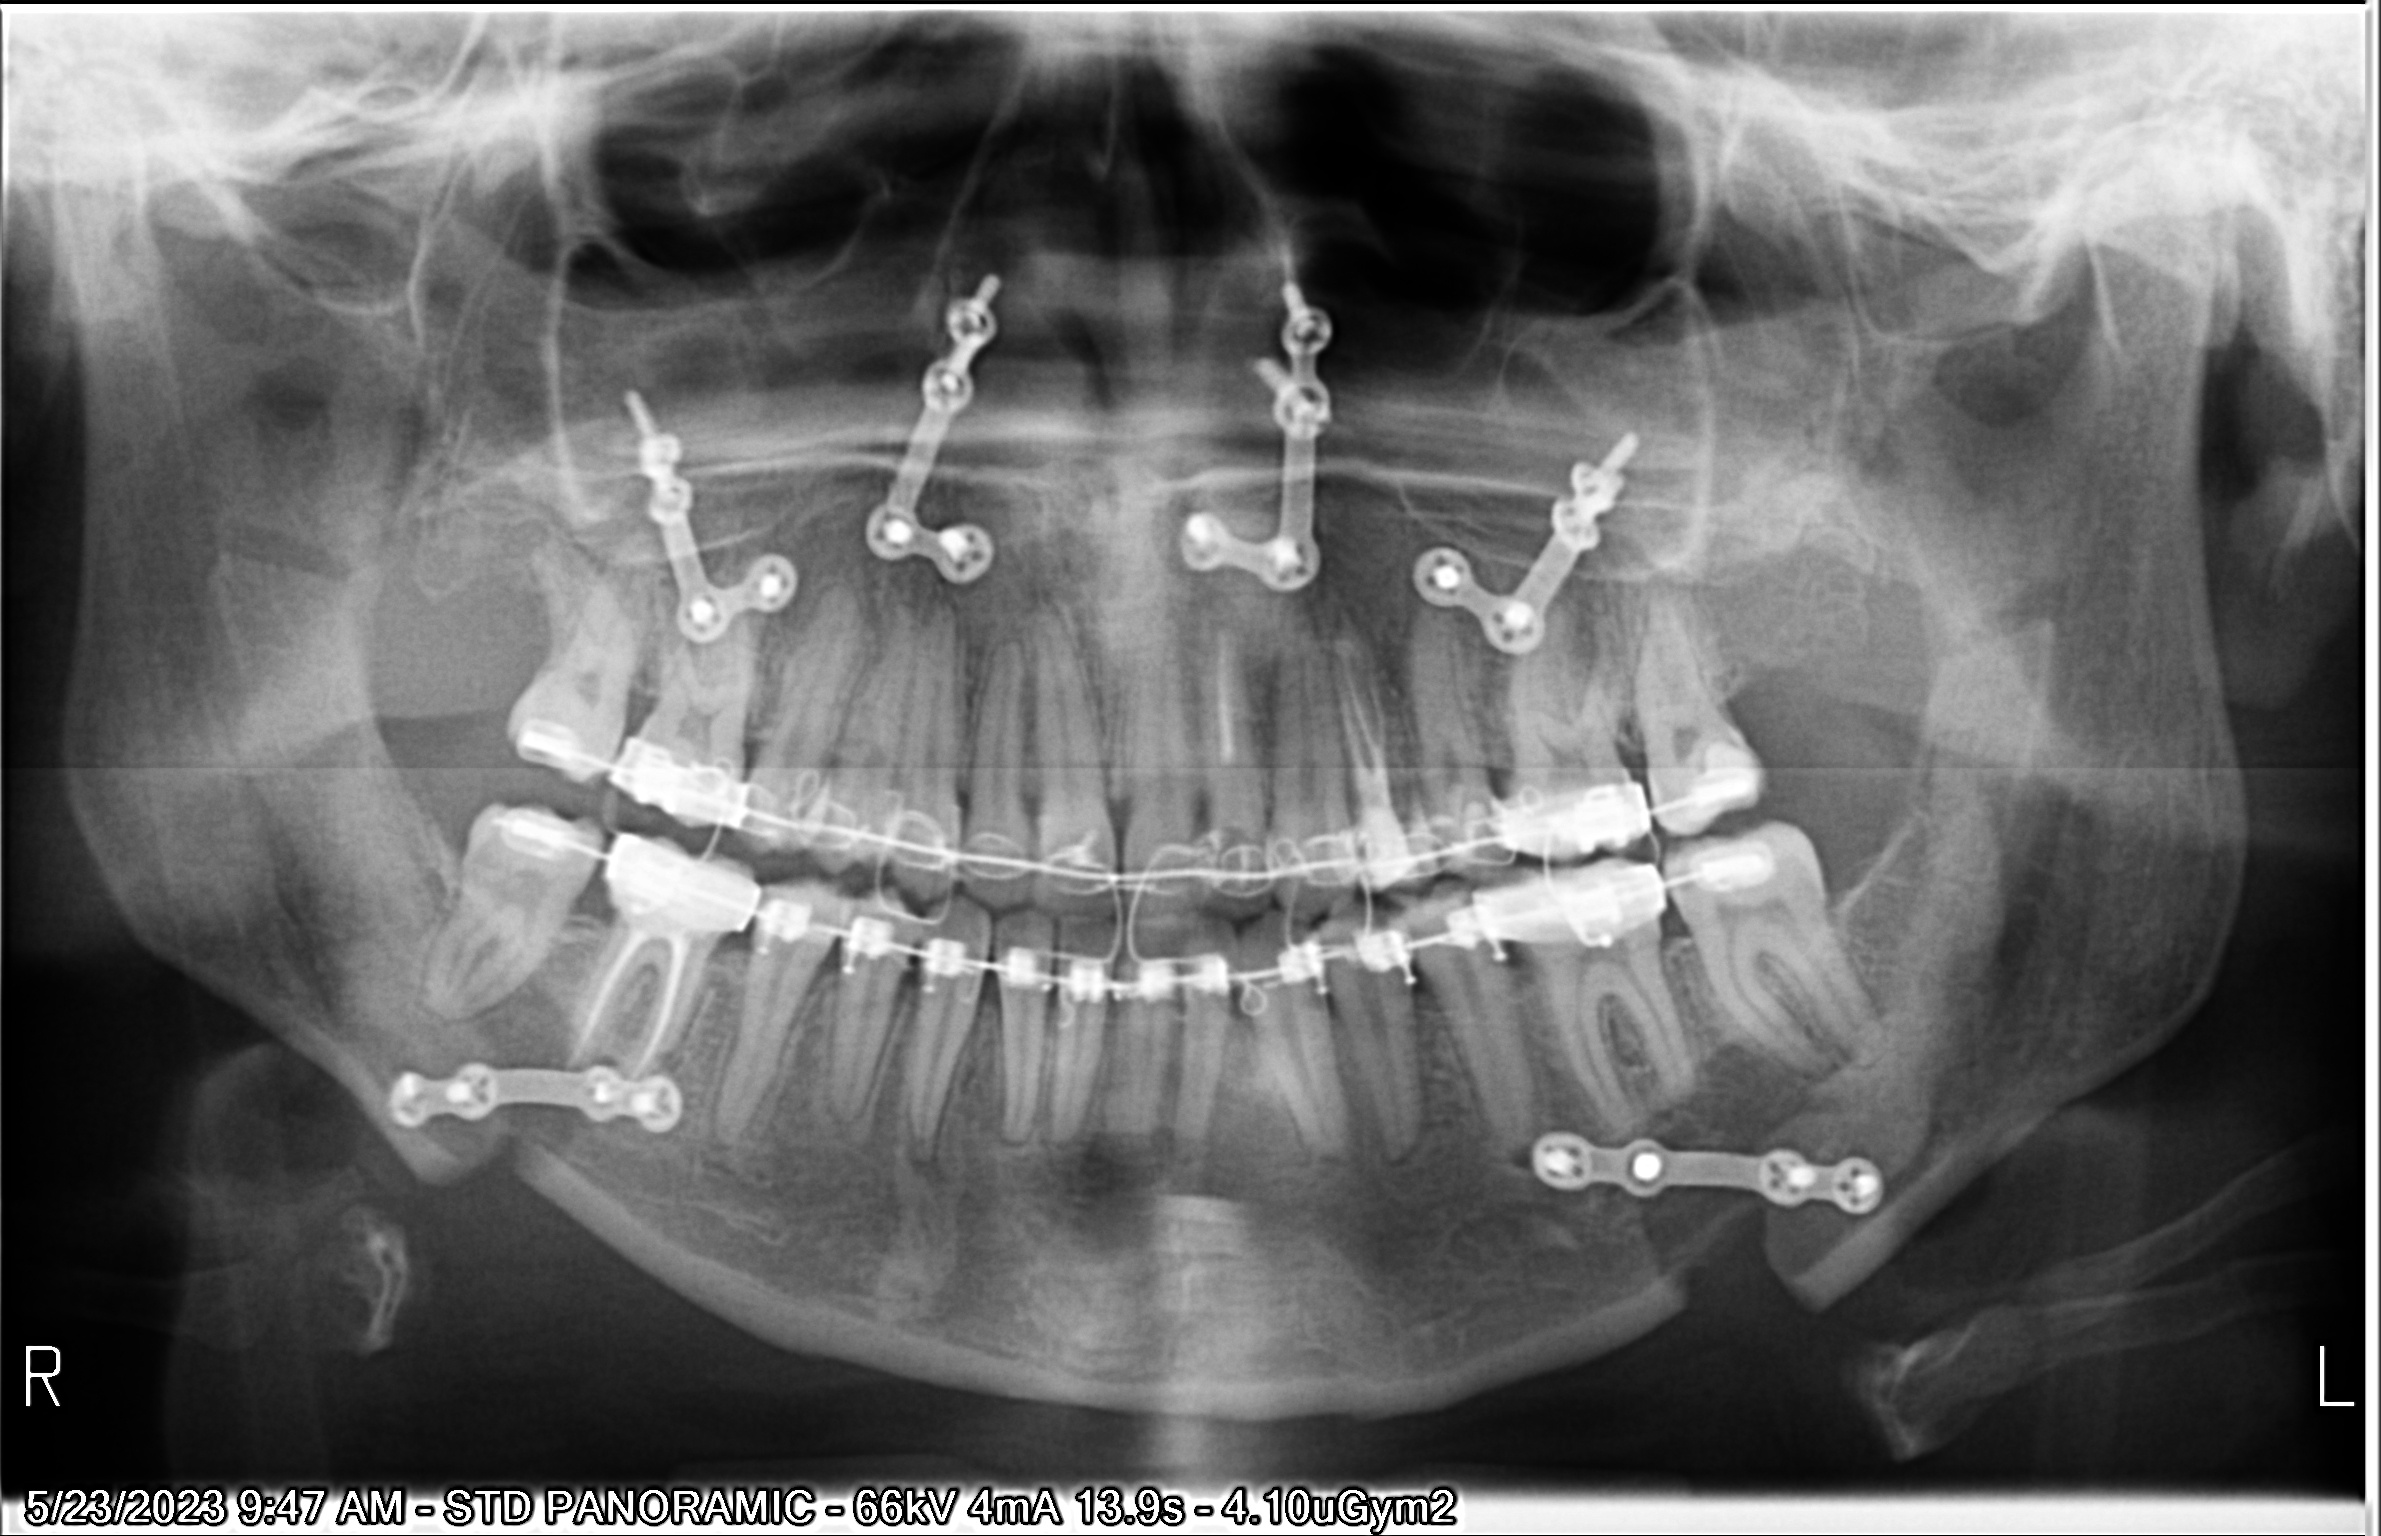CAR: (1217, 835, 1267, 915)
END: (557, 923, 649, 1093), (1319, 611, 1388, 802), (630, 953, 708, 1093), (1196, 614, 1250, 804)
OBT: (1361, 812, 1428, 894)
ORD: (517, 668, 1817, 915), (451, 816, 1892, 1033)
SRD: (1404, 347, 1652, 653), (1192, 241, 1326, 609), (873, 236, 1010, 588), (607, 385, 795, 637), (1529, 1121, 1937, 1229), (387, 1054, 696, 1170)
